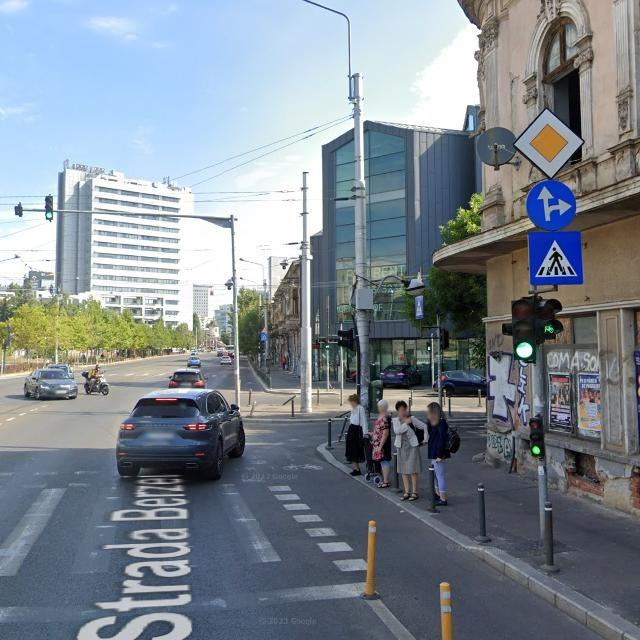info_crosswalk: (529, 231, 584, 285)
